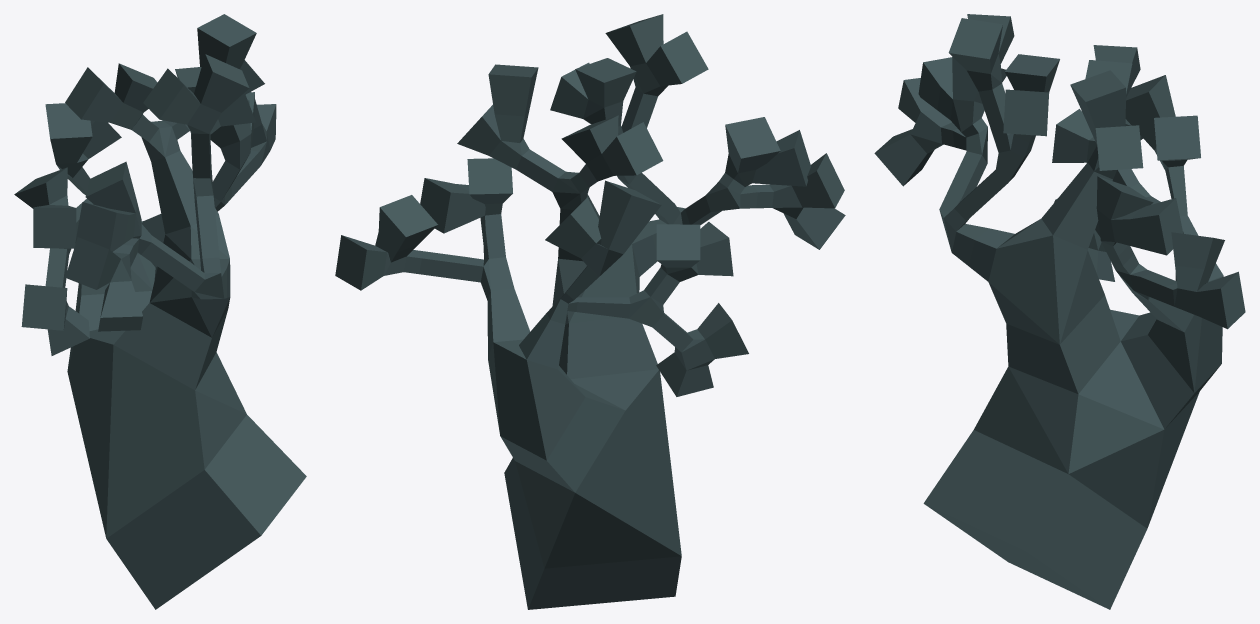
Rendered from LPSciFi_AlienPlantJ2.fbx.
The picture shows the model from 3 angles, left to right: view 1: azimuth 30°, elevation 25°; view 2: azimuth 150°, elevation 25°; view 3: azimuth 270°, elevation 25°; orthographic projection. The views are drawn at different scales.
Parts seen in each view (by area): view 1: AlienPlantJ2; view 2: AlienPlantJ2; view 3: AlienPlantJ2.
Part boxes in pixels (box(x1,y1,x2,y2)): AlienPlantJ2: box(14, 14, 306, 609); AlienPlantJ2: box(335, 14, 845, 609); AlienPlantJ2: box(874, 14, 1245, 609).
Bounding box in the file's own units: 243 × 362 × 217.
